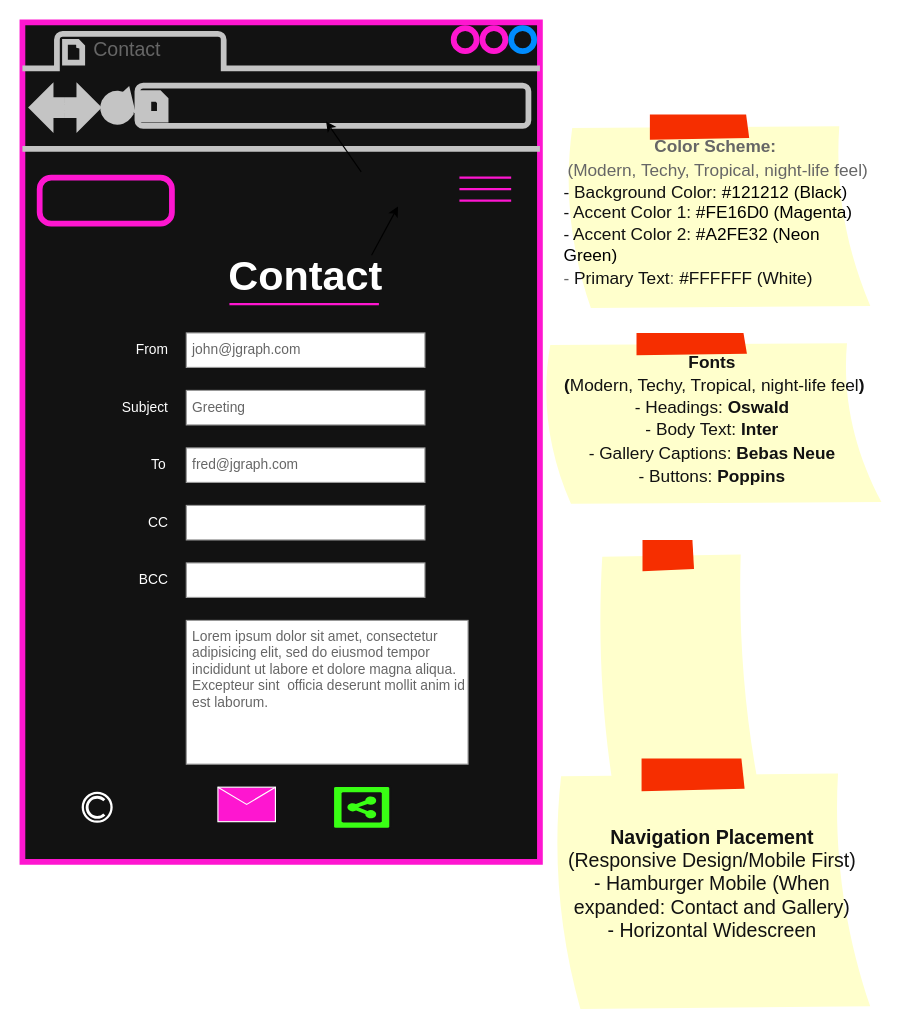
The diagram is 905 pixels wide and 1032 high, and some of its shapes have lost their labels. Each missing label, with the centre of its shape:
"-Email - LinkedIn - GitHub - Phone - Social Media" belongs at point 677,660.
"Home" belongs at point 105,200.
"https://www.draw.io" belongs at point 315,105.
